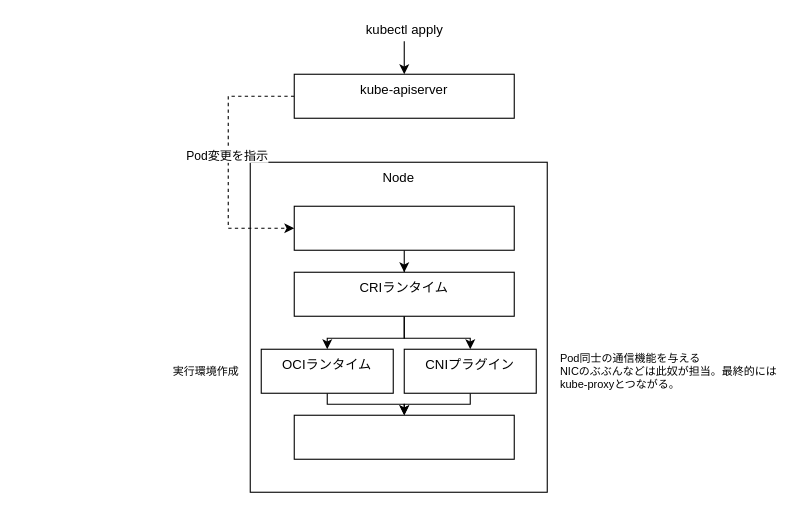
This 799x512 diagram has some shape labels left out. The shapes that lost their labels are listed below. From the top down, each one's centre as x and y in pixels, then its label:
At point (403, 227): "kubelet".
At point (403, 436): "Pod".
